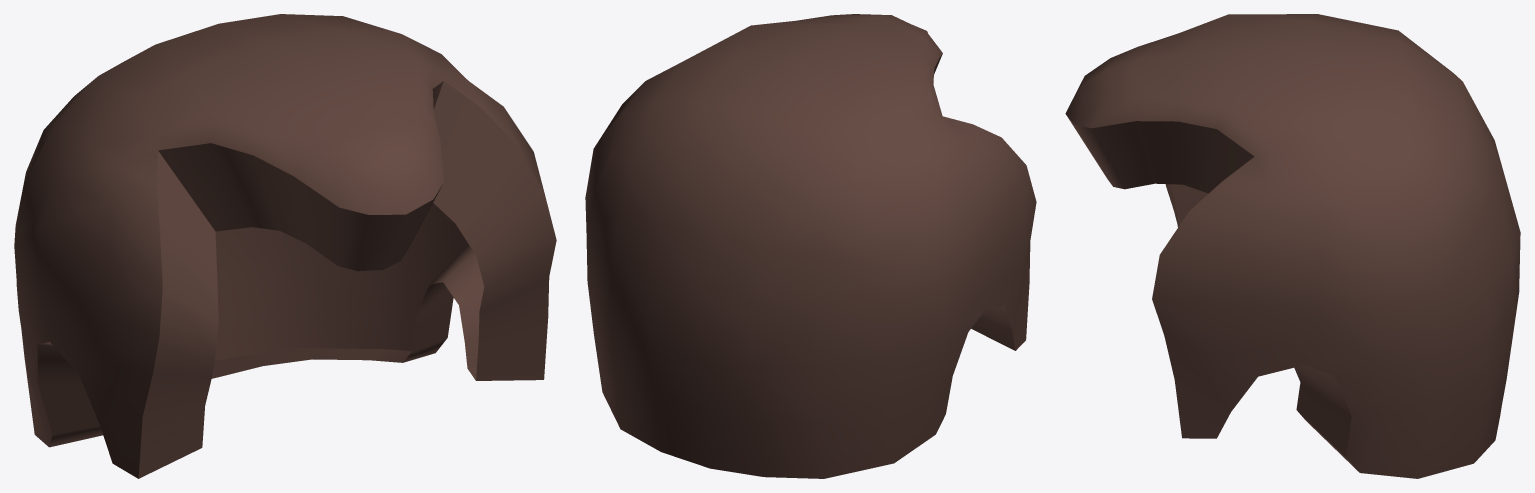
File: Racer_Head_02_Hair.fbx
3 renders of one model, left to right at view 1: azimuth 30°, elevation 25°; view 2: azimuth 150°, elevation 25°; view 3: azimuth 270°, elevation 25°, orthographic. The views are drawn at different scales.
Parts seen in each view (by area): view 1: Racer_Head_02_Hair; view 2: Racer_Head_02_Hair; view 3: Racer_Head_02_Hair.
Part boxes in pixels (x1,y1,x2,y2): Racer_Head_02_Hair: (14,14,556,478); Racer_Head_02_Hair: (585,14,1036,478); Racer_Head_02_Hair: (1065,14,1520,478).
Size of the model in its own units: 25.38 by 24.64 by 21.96.
